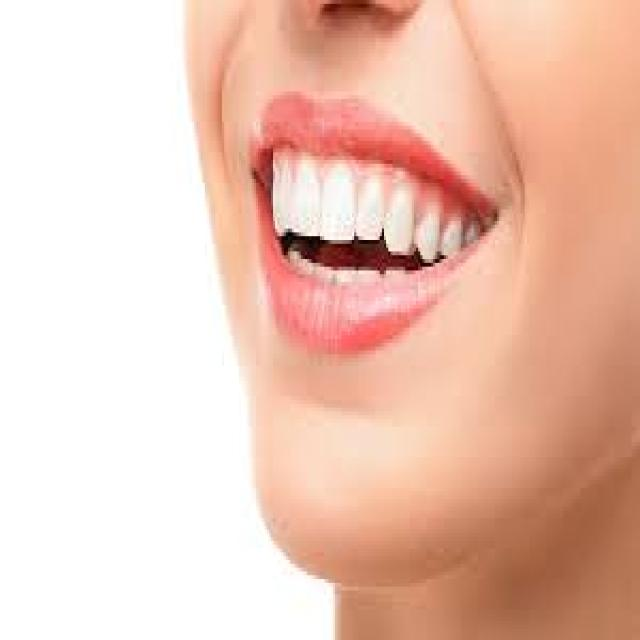tooth: (324, 164, 363, 255), (294, 168, 320, 244), (273, 164, 297, 232), (388, 202, 412, 255), (360, 175, 378, 240), (418, 213, 437, 256), (444, 221, 461, 263)
